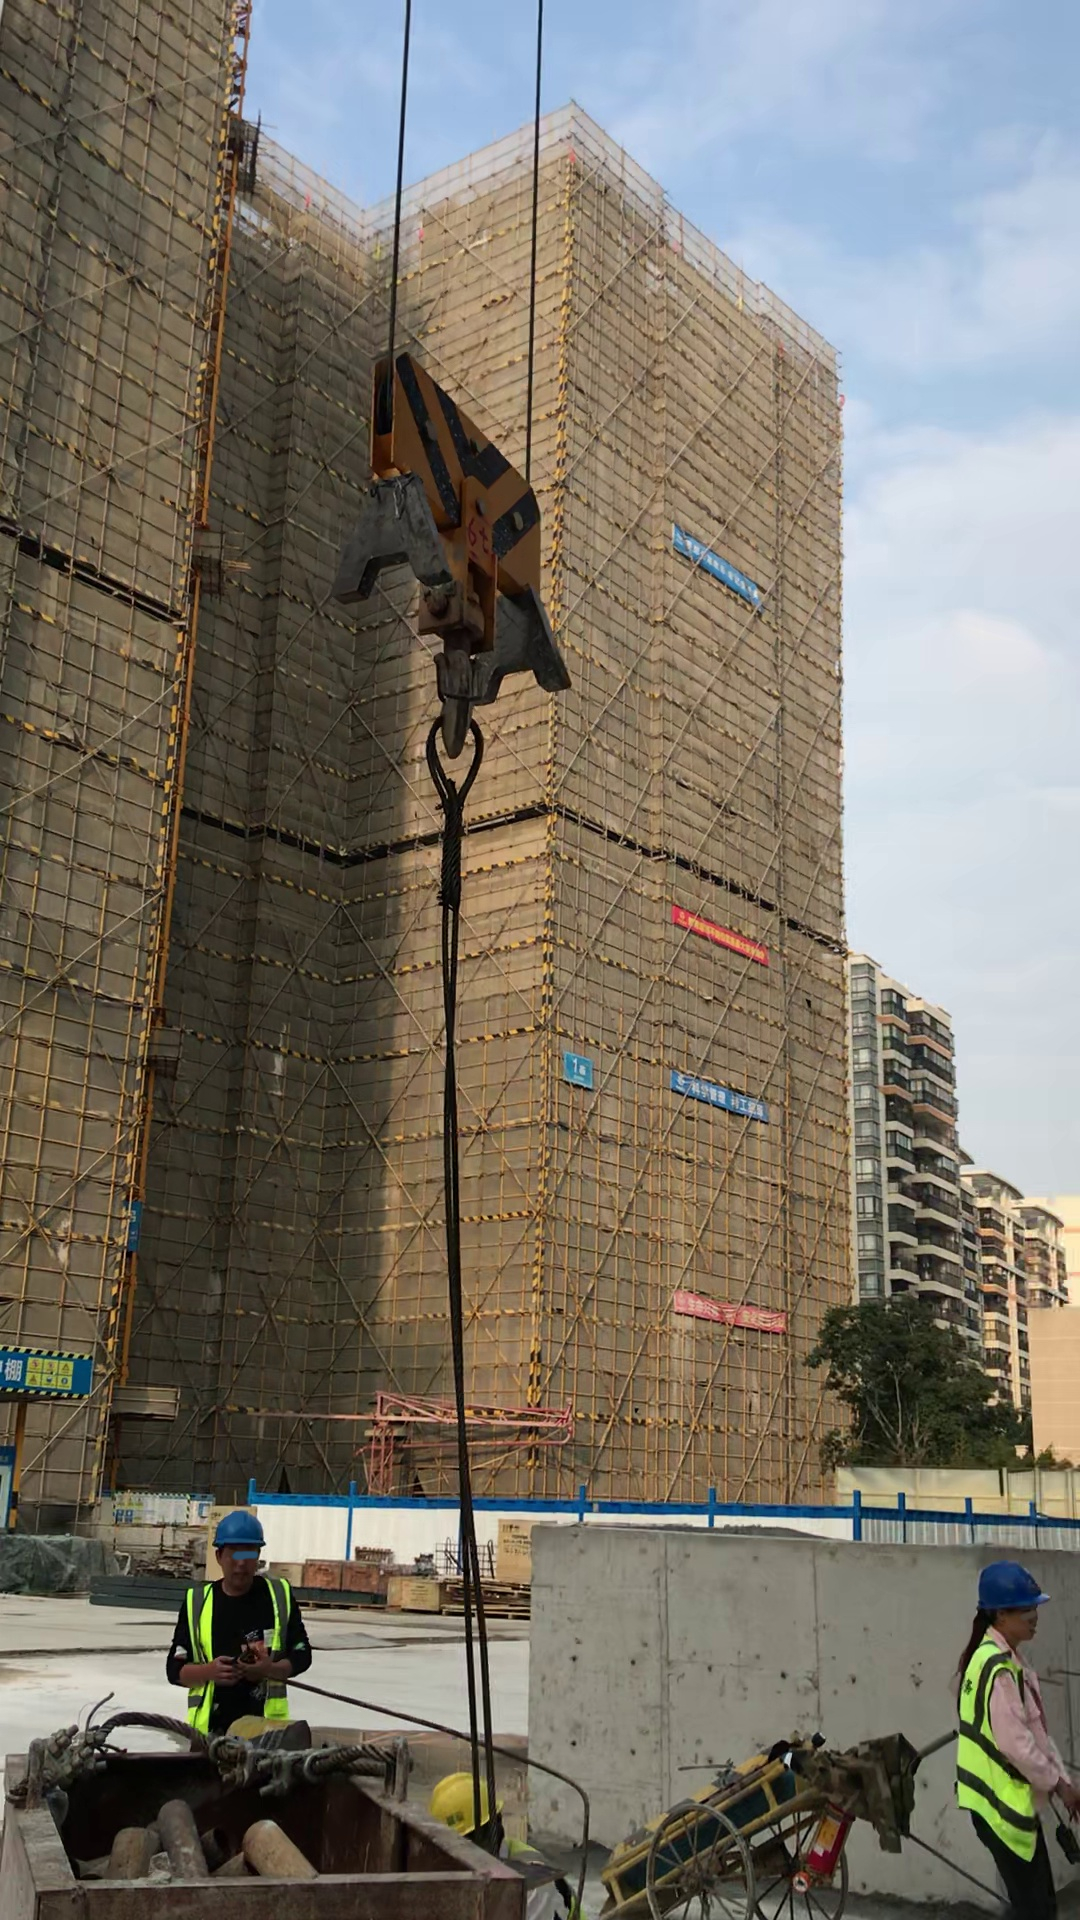helmet: (423, 1772, 502, 1835), (972, 1563, 1055, 1613), (211, 1507, 266, 1547)
hook: (322, 311, 607, 742)
hopper: (9, 1717, 470, 1907)
person: (935, 1563, 1080, 1902), (161, 1508, 337, 1768), (417, 1767, 585, 1920)
slogan: (675, 523, 761, 607), (672, 904, 770, 963), (673, 1066, 767, 1122), (676, 1286, 785, 1335)
vest: (948, 1643, 1046, 1864), (183, 1586, 292, 1727)
